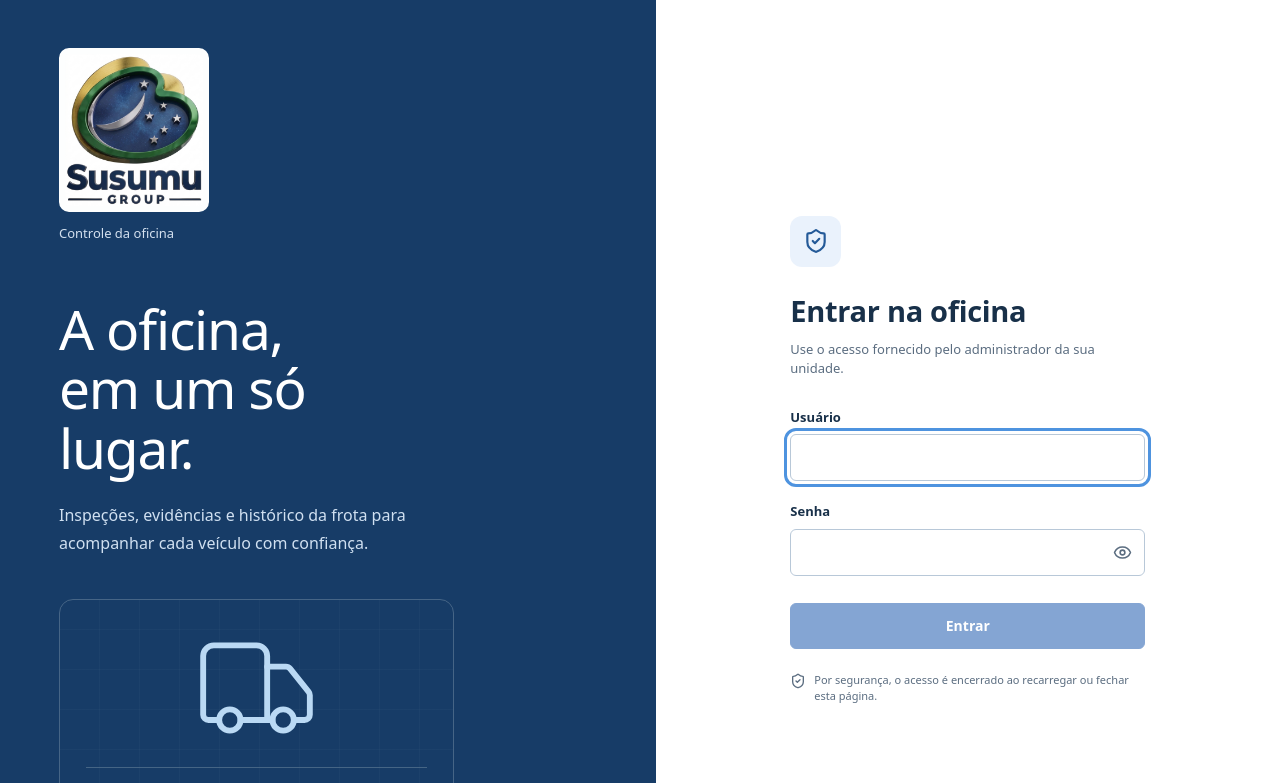
vehicle type administration and assignments › preserves unsaved catalog fields when a concurrent create conflicts
This screenshot has width=1280, height=783.
Type "test" into the field labelled "Usuário".
click(968, 458); type("test")  # box [790,434,1145,481]
Type "test-password" into the password field labelled "Senha".
click(968, 552); type("test-password")  # box [790,529,1145,576]
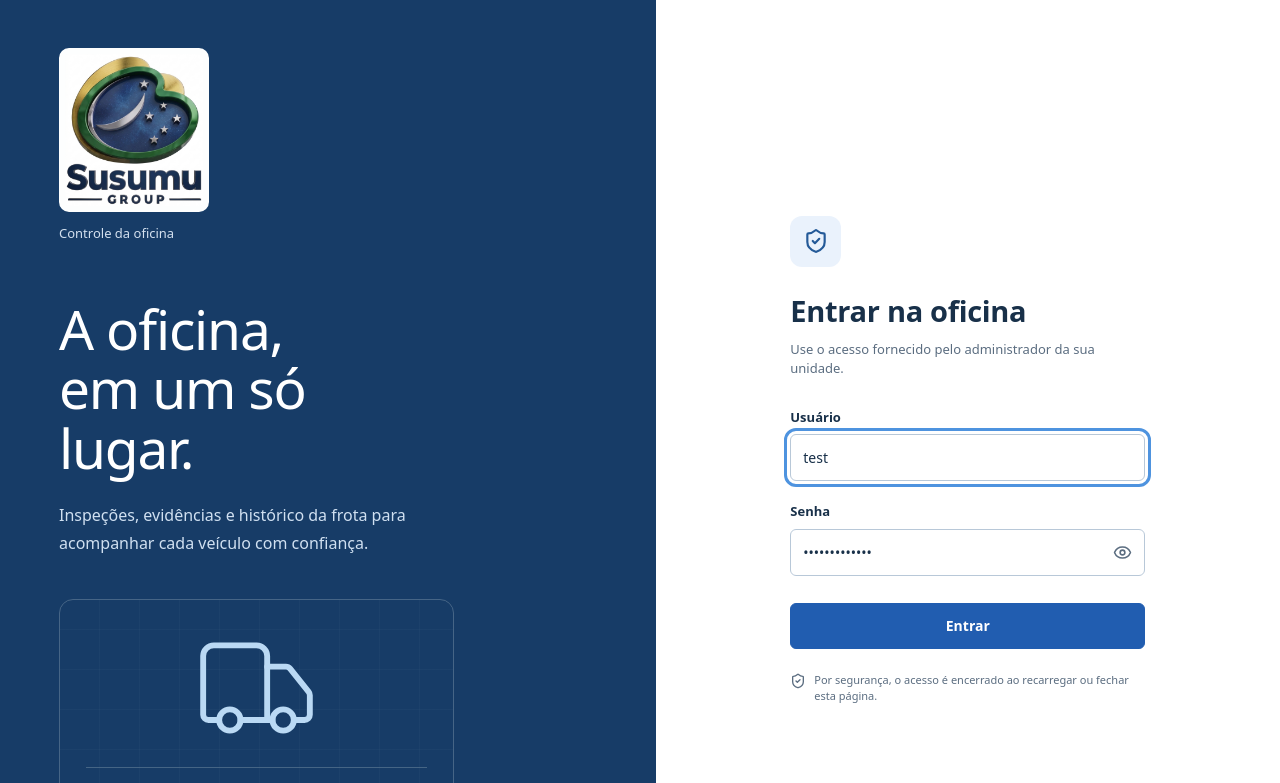
Click the button "Entrar".
click(968, 626)  # box [790,603,1145,649]
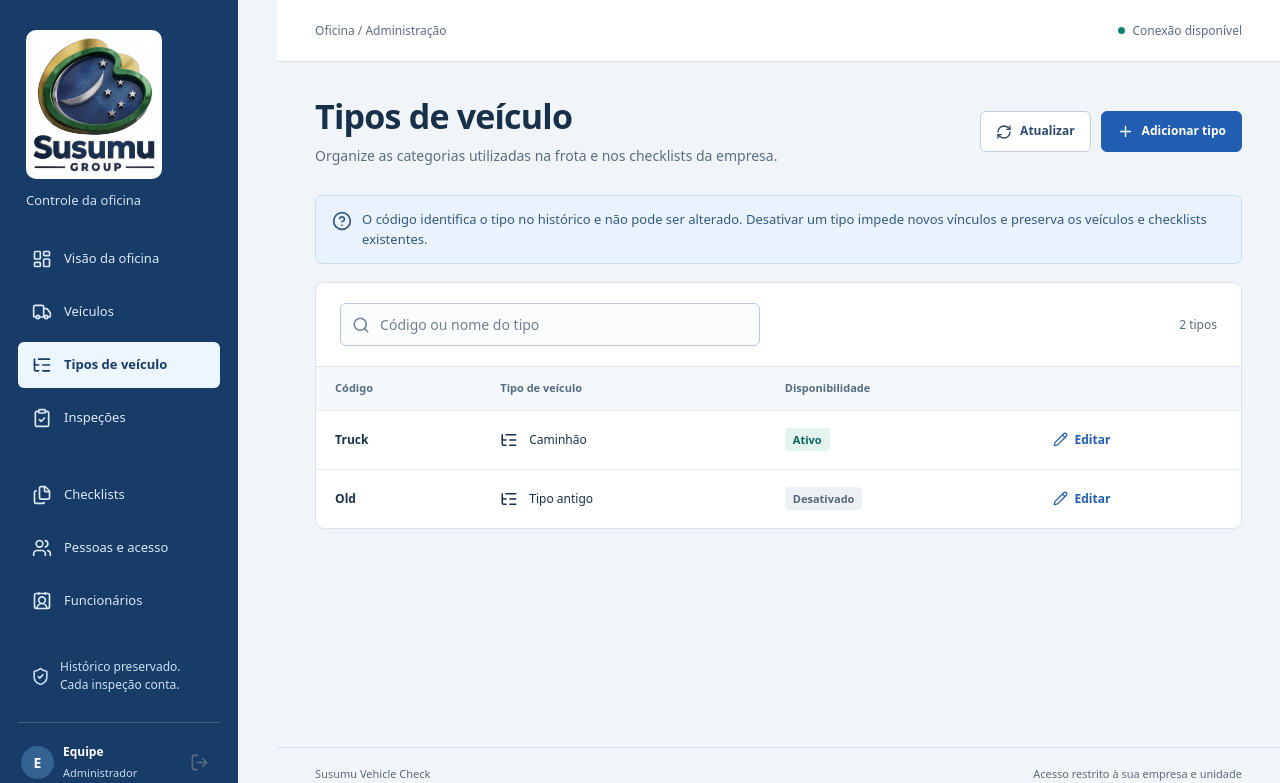
Expected: the text "Caminhão" is shown, [500,431,587,449]
Click the button "Adicionar tipo".
click(1171, 132)  # box [1101,111,1242,152]
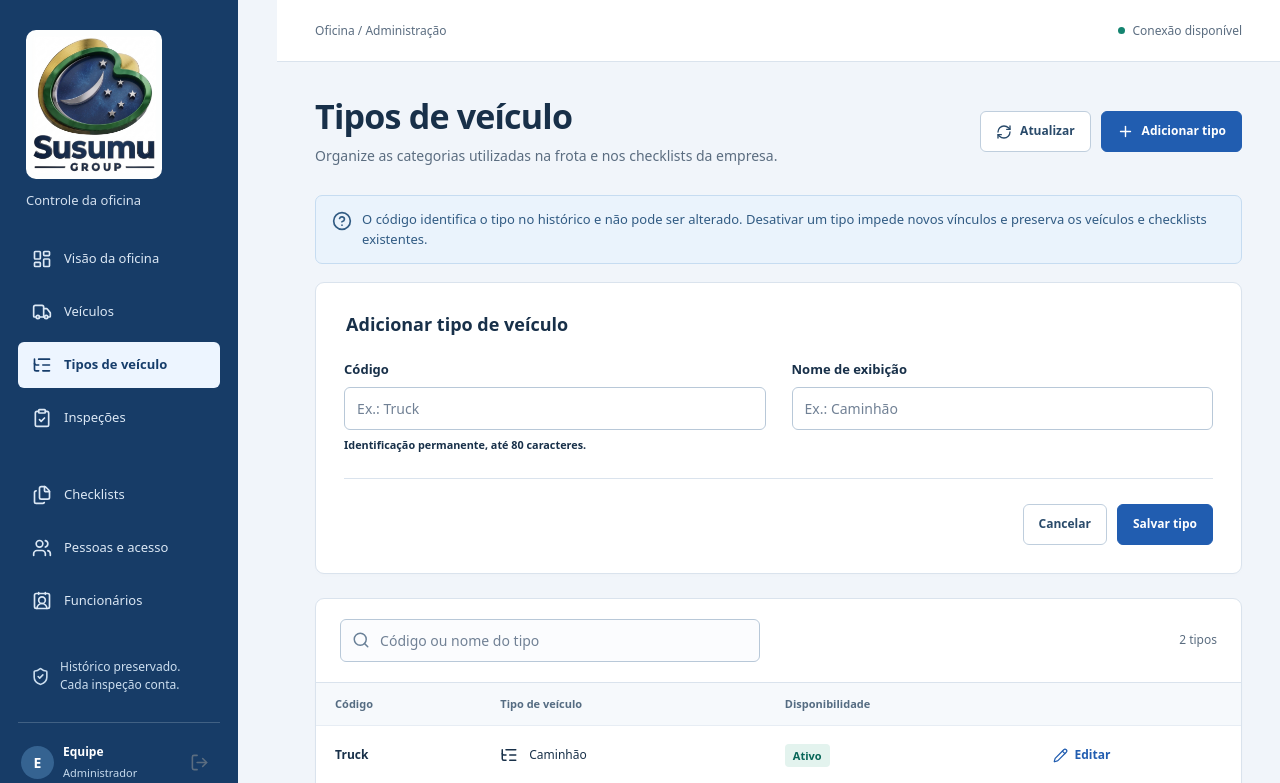
Type "Bus" into the field labelled "Código Identificação permanente, até 80 caracteres.".
click(555, 408); type("Bus")  # box [344,387,766,430]
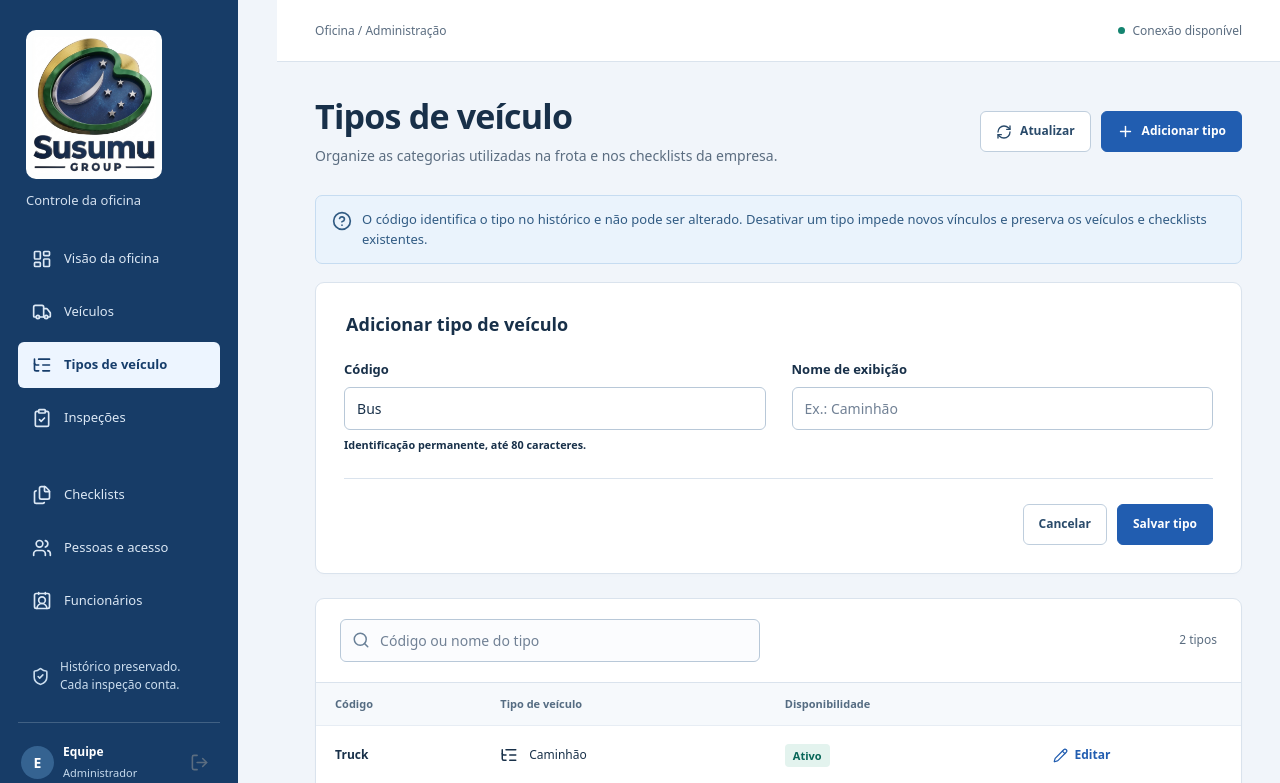
Type "Ônibus" into the field labelled "Nome de exibição".
click(1002, 408); type("Ônibus")  # box [792,387,1213,430]
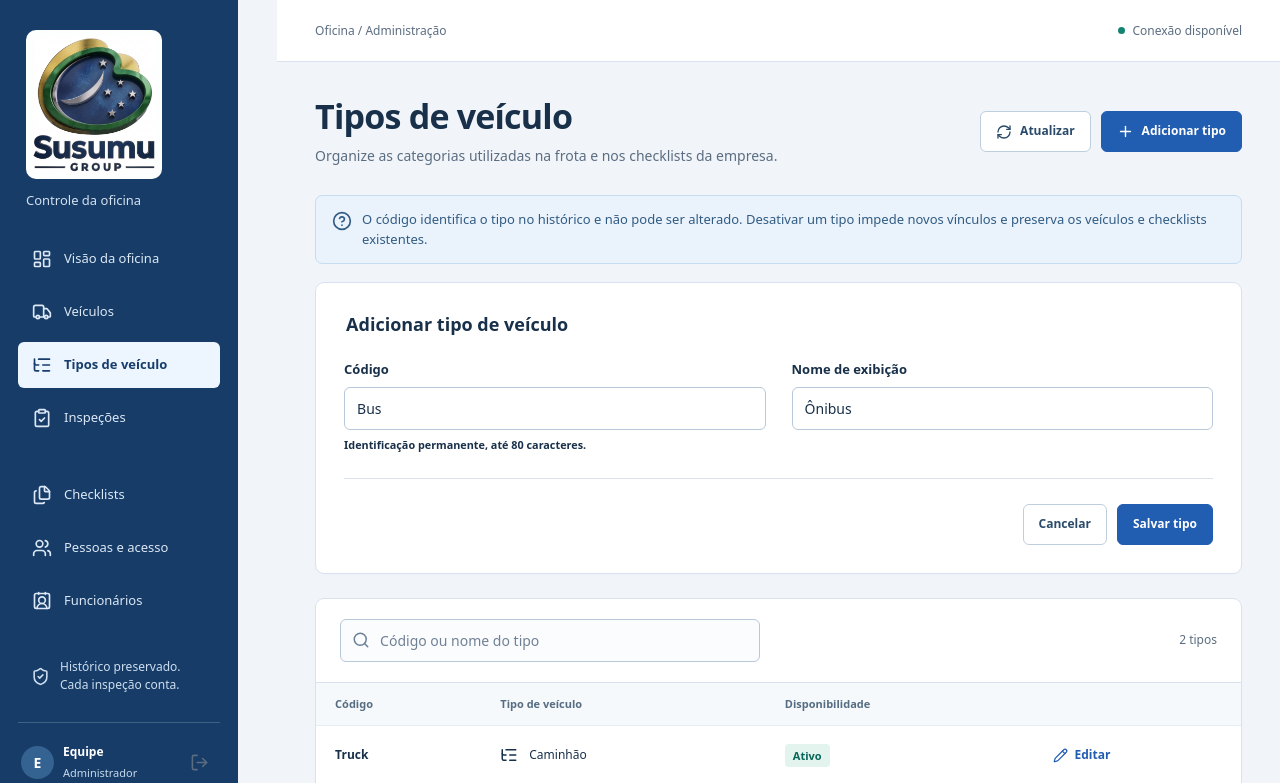
Click the button "Salvar tipo".
click(1165, 524)  # box [1117,504,1213,545]
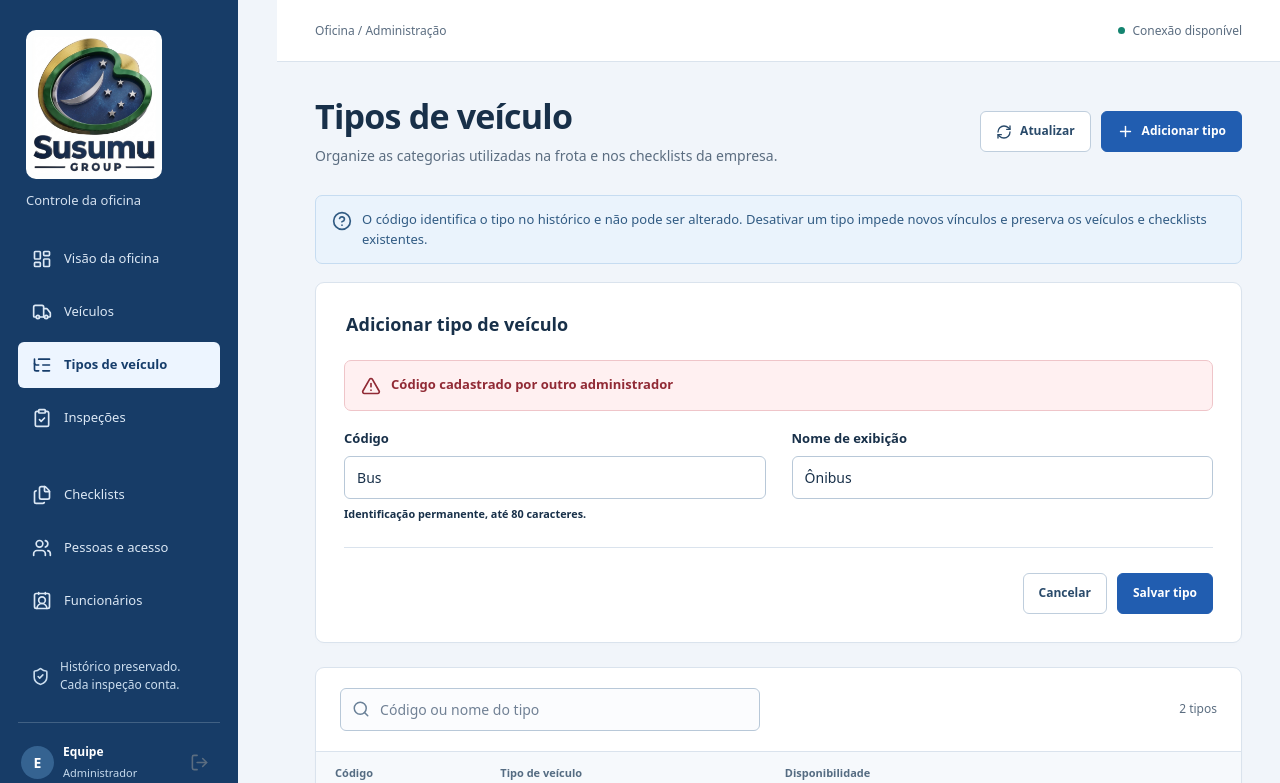
Expected: the message "Código cadastrado por outro administrador" is shown, [344,360,1213,411]
